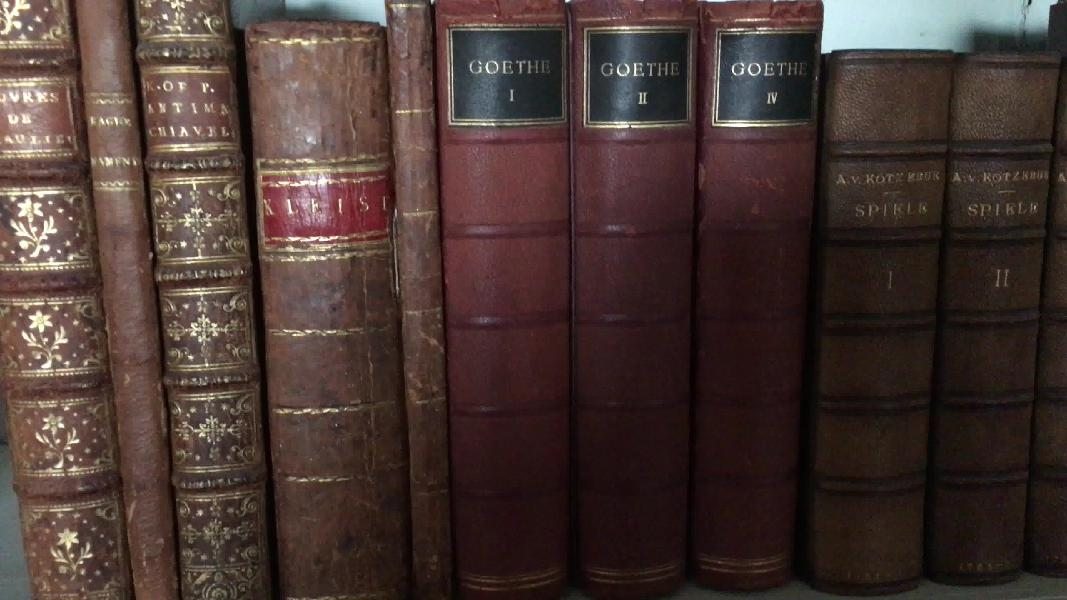Aa6-10: (389, 1, 465, 586)
Aa6-11_13: (433, 2, 817, 590)
Aa6-7: (79, 7, 181, 596)
Aa6-8: (135, 2, 283, 600)
Aa6-9: (232, 20, 408, 598)
